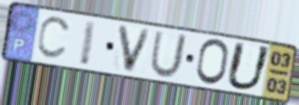C: (35, 16, 74, 62)
I: (77, 19, 99, 68)
O: (194, 37, 231, 88)
U: (223, 40, 274, 93), (148, 30, 189, 80)
V: (116, 23, 154, 76)
